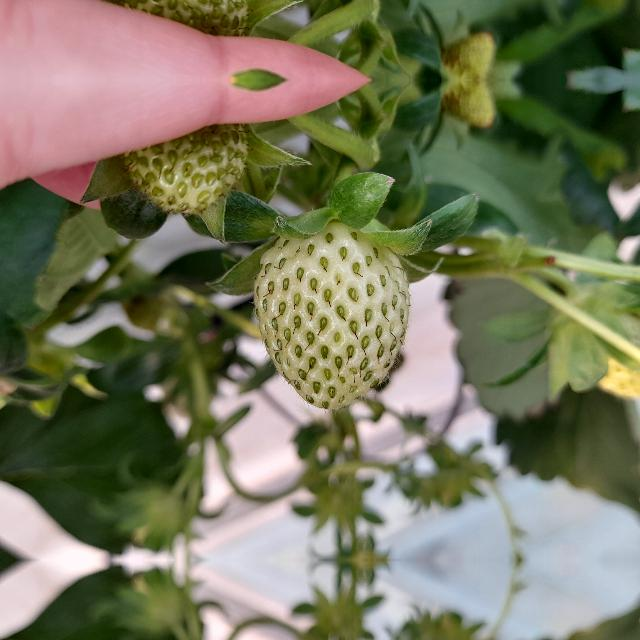Health_25: (252, 220, 412, 412), (111, 110, 249, 222), (111, 0, 249, 49)
